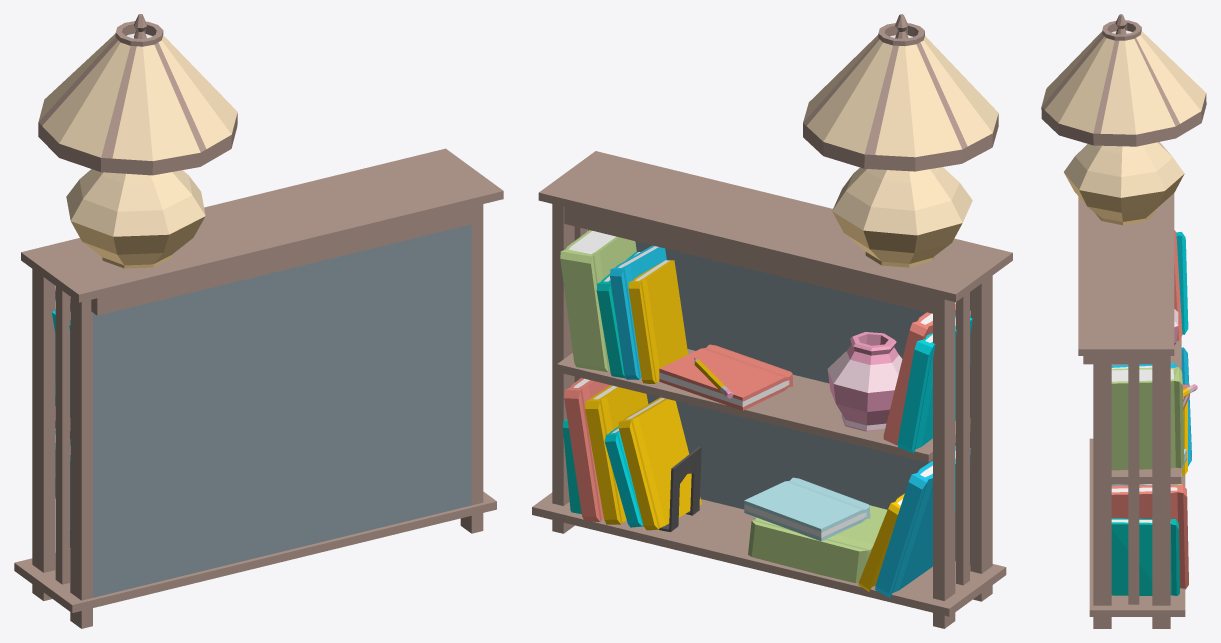
The model's file is bookcase2.gltf.
The picture shows the model from 3 angles, left to right: view 1: azimuth 30°, elevation 25°; view 2: azimuth 150°, elevation 25°; view 3: azimuth 270°, elevation 25°; orthographic projection. The views are drawn at different scales.
Parts seen in each view (by area): view 1: group187267960; view 2: group187267960; view 3: group187267960.
Boxes of the visible parts, <box> form: group187267960: <box>14,14,503,628</box>; group187267960: <box>532,14,1012,628</box>; group187267960: <box>1041,14,1206,628</box>.
Size of the model in its own units: 1.1 by 1.44 by 0.4475.
